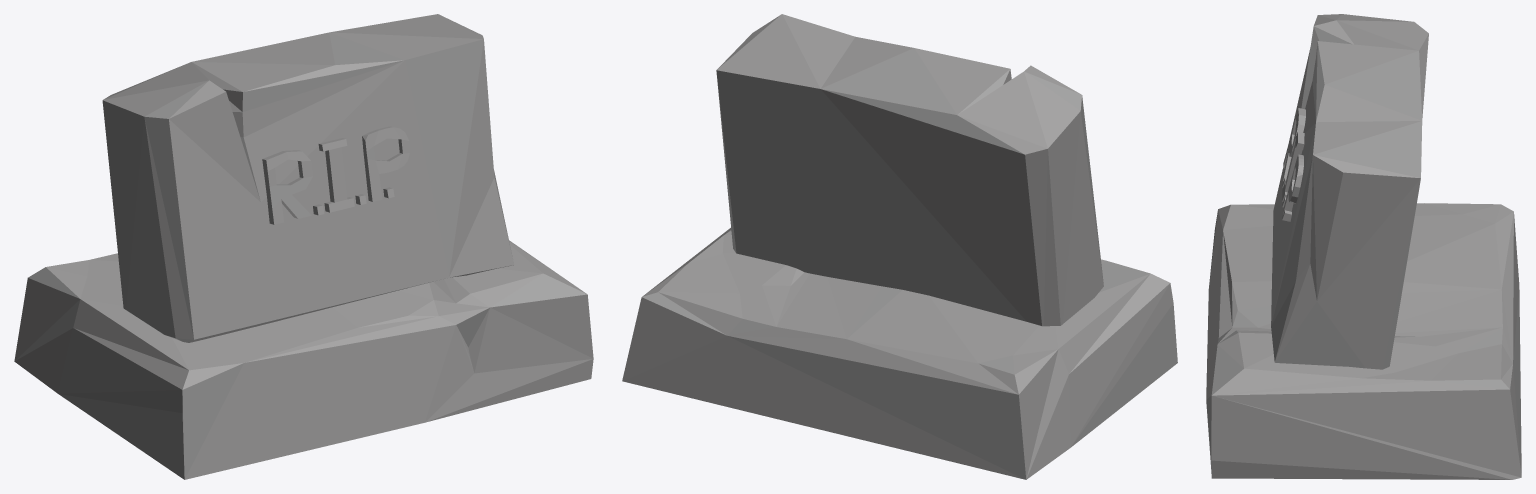
The model's file is WF_LP_HT_Props_Gravestone.005.fbx.
3 renders of one model, left to right at view 1: azimuth 30°, elevation 25°; view 2: azimuth 150°, elevation 25°; view 3: azimuth 270°, elevation 25°, orthographic. The views are drawn at different scales.
Visible parts, largest first — view 1: WF_LP_HT_Props_Gravestone.005; view 2: WF_LP_HT_Props_Gravestone.005; view 3: WF_LP_HT_Props_Gravestone.005.
Part boxes in pixels (left/top/right/bottom): WF_LP_HT_Props_Gravestone.005: left=14, top=14, right=593, bottom=479; WF_LP_HT_Props_Gravestone.005: left=622, top=14, right=1177, bottom=479; WF_LP_HT_Props_Gravestone.005: left=1206, top=14, right=1521, bottom=479.
Size of the model in its own units: 0.8745 by 0.6545 by 0.6004.
